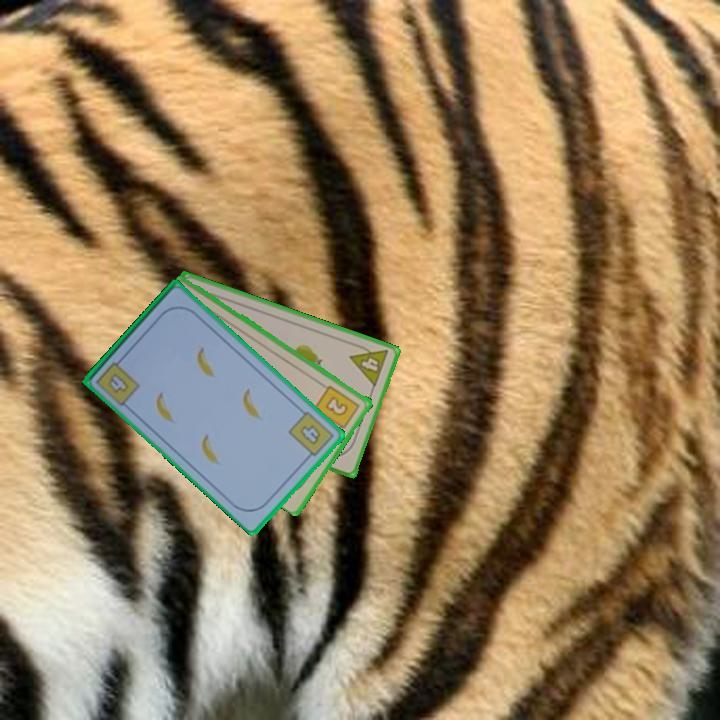2b: (311, 381, 363, 436)
4b: (285, 407, 337, 463), (105, 369, 132, 396)
4p: (346, 339, 391, 390)
